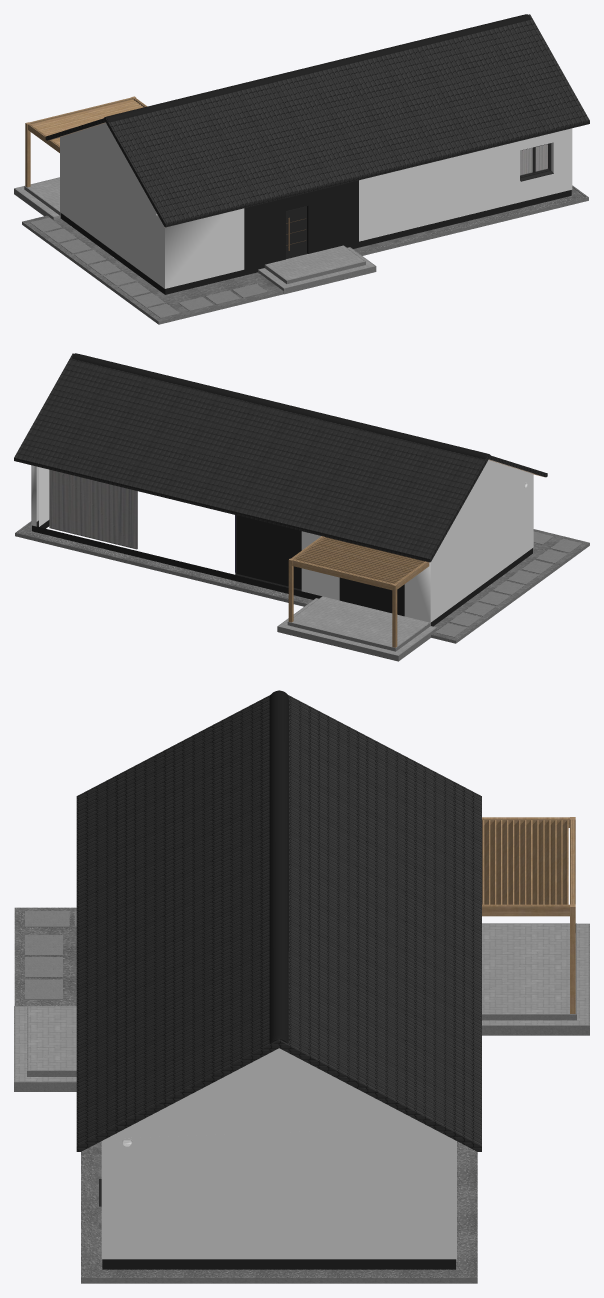
Rendered from HouseMerged_final_optimized.glb.
3 renders of one model, top to bottom at view 1: azimuth 30°, elevation 25°; view 2: azimuth 150°, elevation 25°; view 3: azimuth 270°, elevation 25°, orthographic. The views are drawn at different scales.
Visible parts, largest first — view 1: Object_6.002; view 2: Object_6.002; view 3: Object_6.002.
Boxes of the visible parts, <box> form: Object_6.002: <box>14,14,589,324</box>; Object_6.002: <box>14,353,589,661</box>; Object_6.002: <box>14,690,589,1283</box>.
Bounding box in the file's own units: 17.23 × 5.27 × 11.3.
15 materials, 13 textured.
